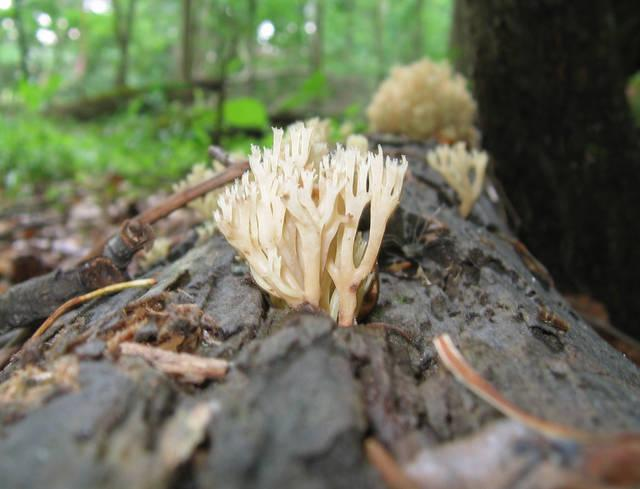edible_mushroom: (211, 117, 409, 327), (366, 55, 479, 146)
